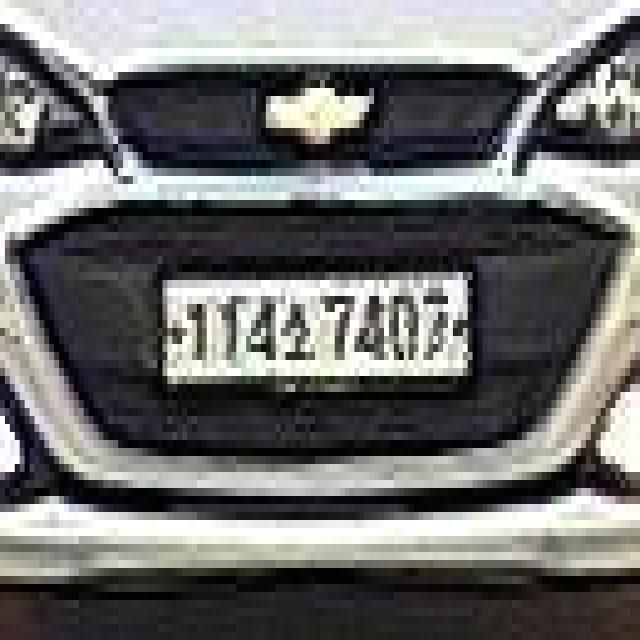illegal_plate: (156, 258, 479, 406)
